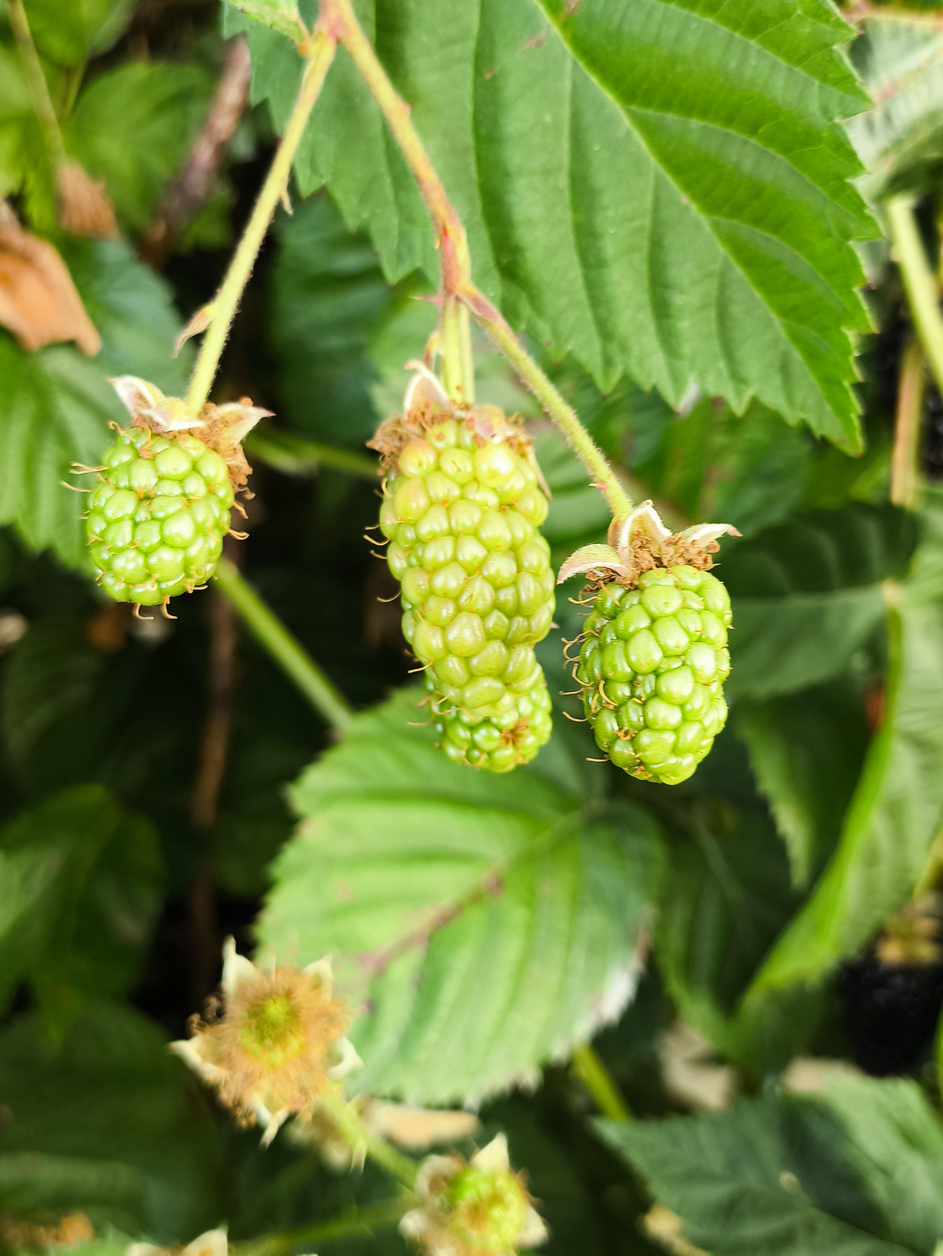verde: (387, 424, 559, 702), (565, 527, 731, 784), (83, 428, 233, 606), (427, 668, 551, 773)
